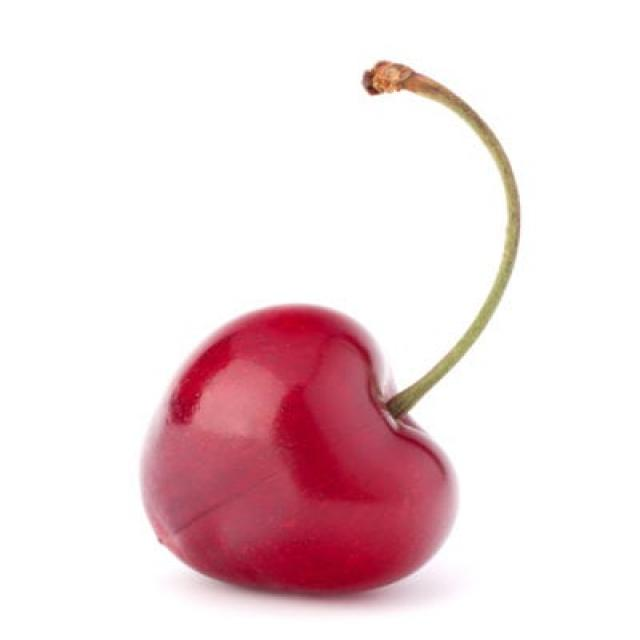cherry: (134, 52, 528, 601)
